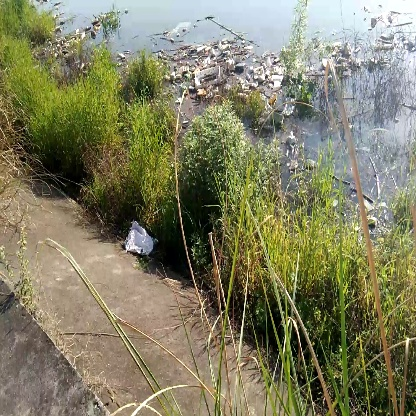plastic-bag: (118, 217, 159, 260)
